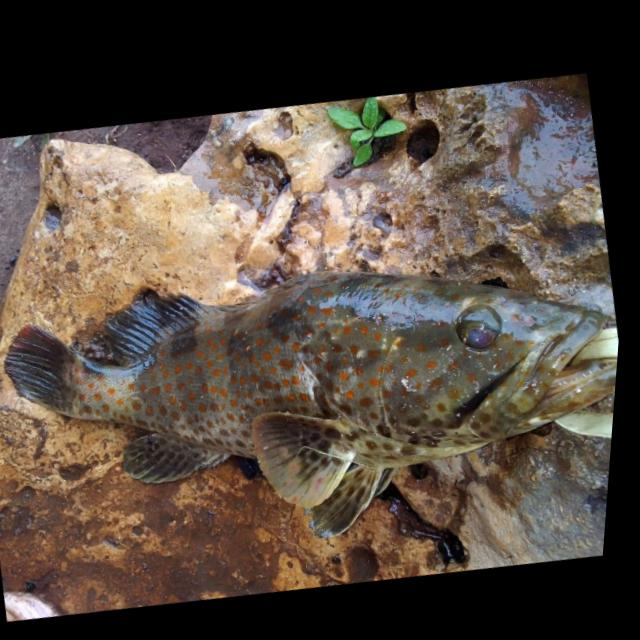Groupers: (0, 185, 626, 617)
